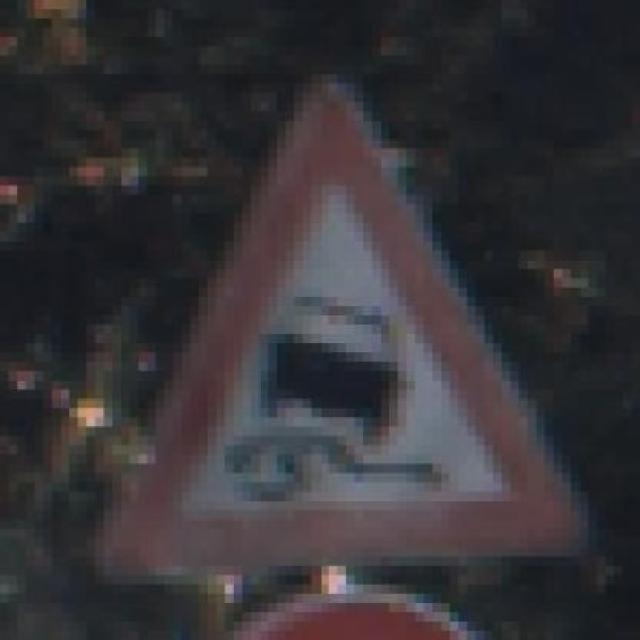Slippery Road Ahead: (95, 74, 597, 575)
